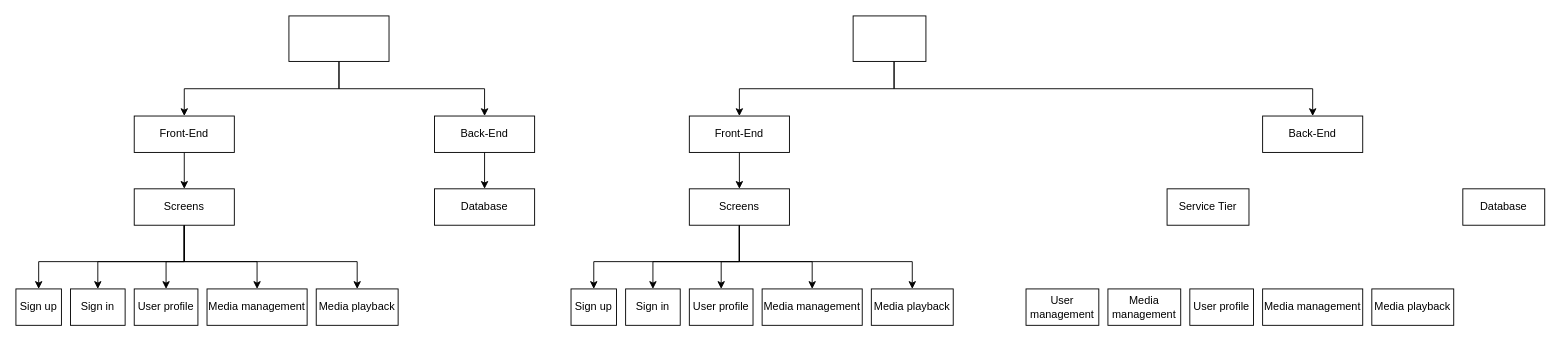
This 1561x341 diagram has some shape labels left out. The shapes that lost their labels are listed below. From the top down, each one's box as (x1, y1, x2, y2) in pixels, then its label:
(288, 15, 389, 61): Requirements
(852, 15, 926, 61): Design
